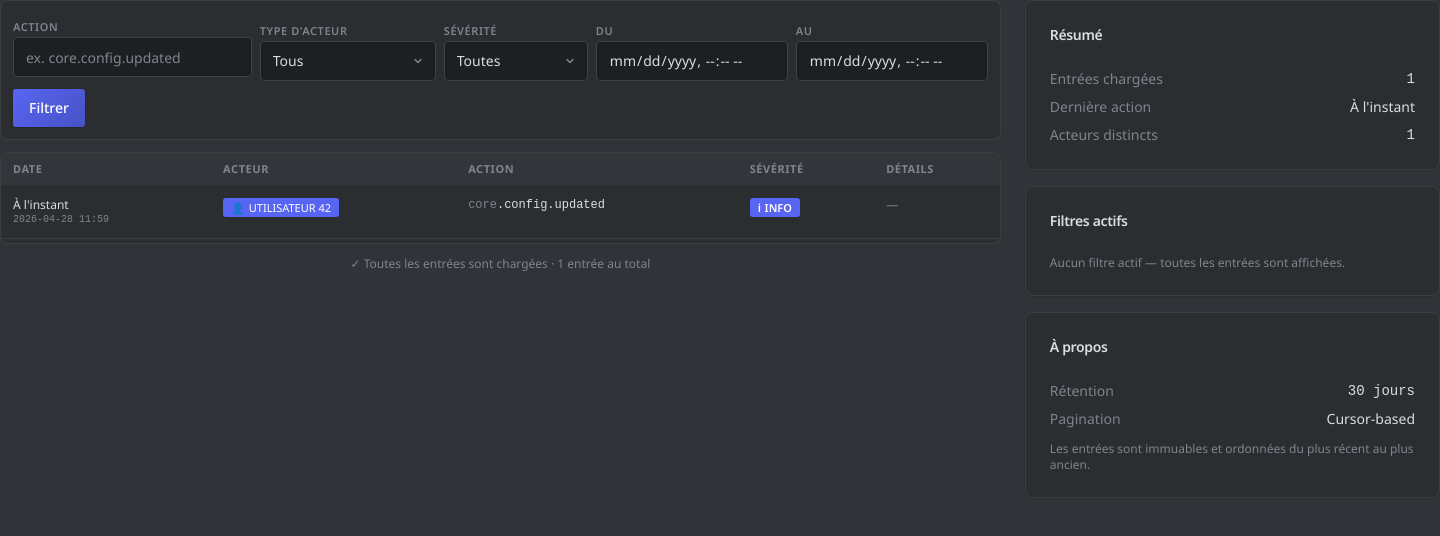
Scenario: AuditView › filtrage : submit reset les items et appelle loadAuditPage avec les nouveaux filtres
Step 1. Type "logs.route.test" into the field labelled "Action" → {"x": 132, "y": 57}, box [13,37,252,77]
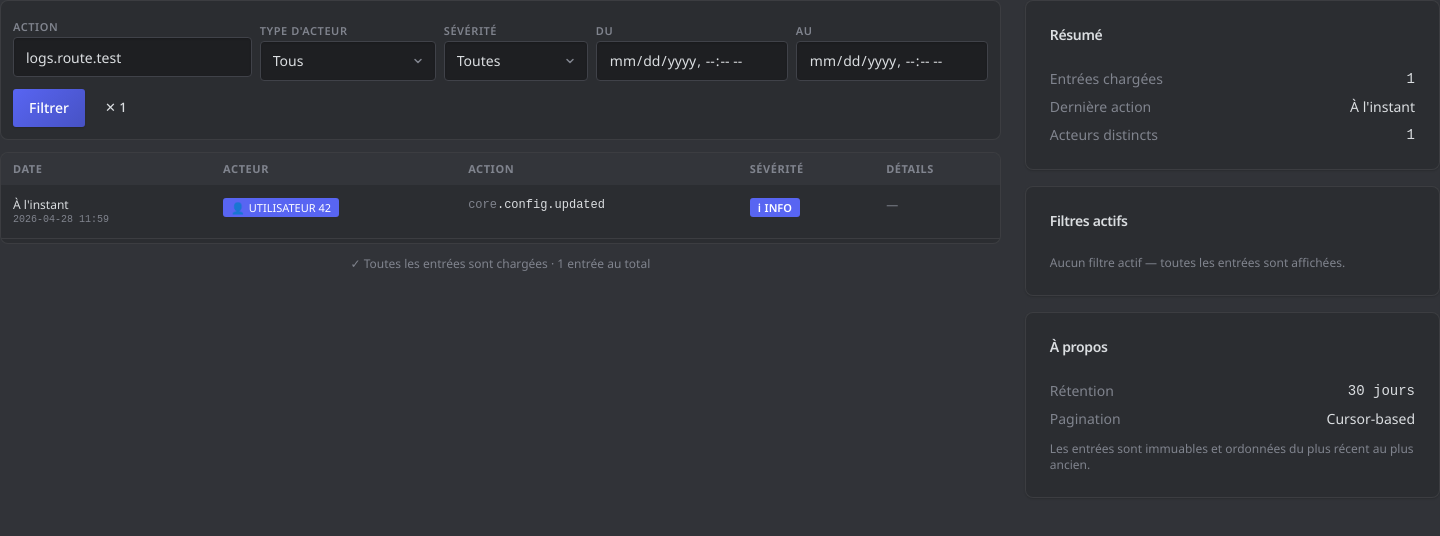
Step 2. Select "🟠 Warn" in the dropdown labelled "Sévérité" → {"x": 516, "y": 61}, box [444,41,588,81]
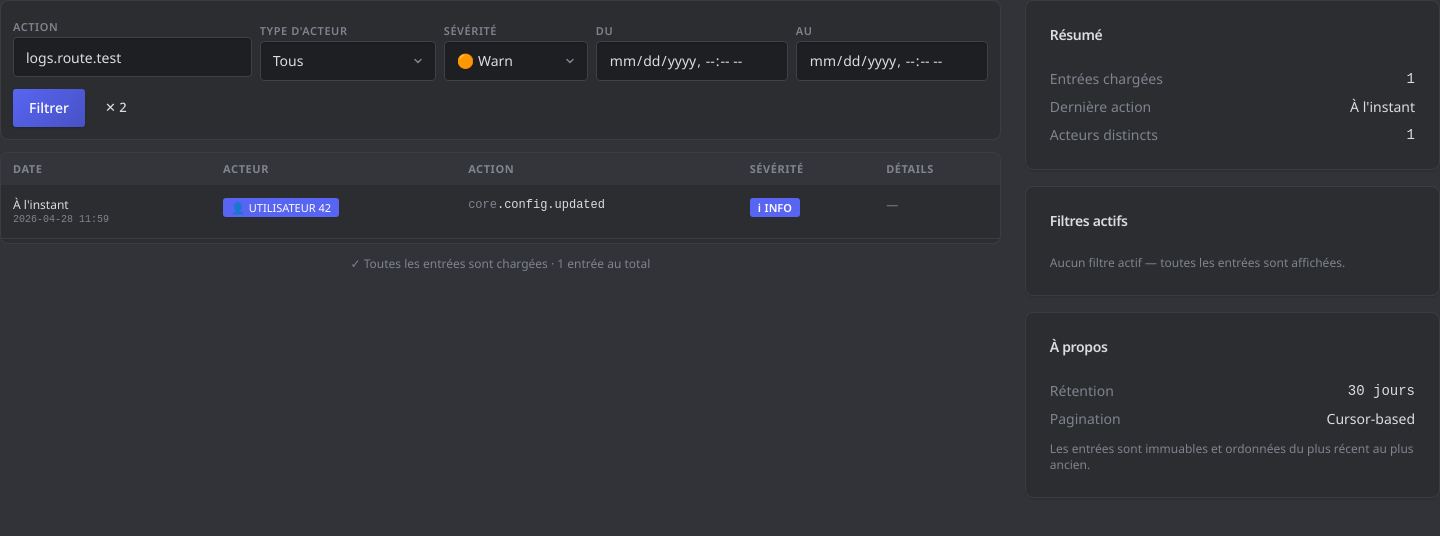
Step 3. Click the button "Filtrer" → {"x": 49, "y": 108}, box [13,89,85,127]
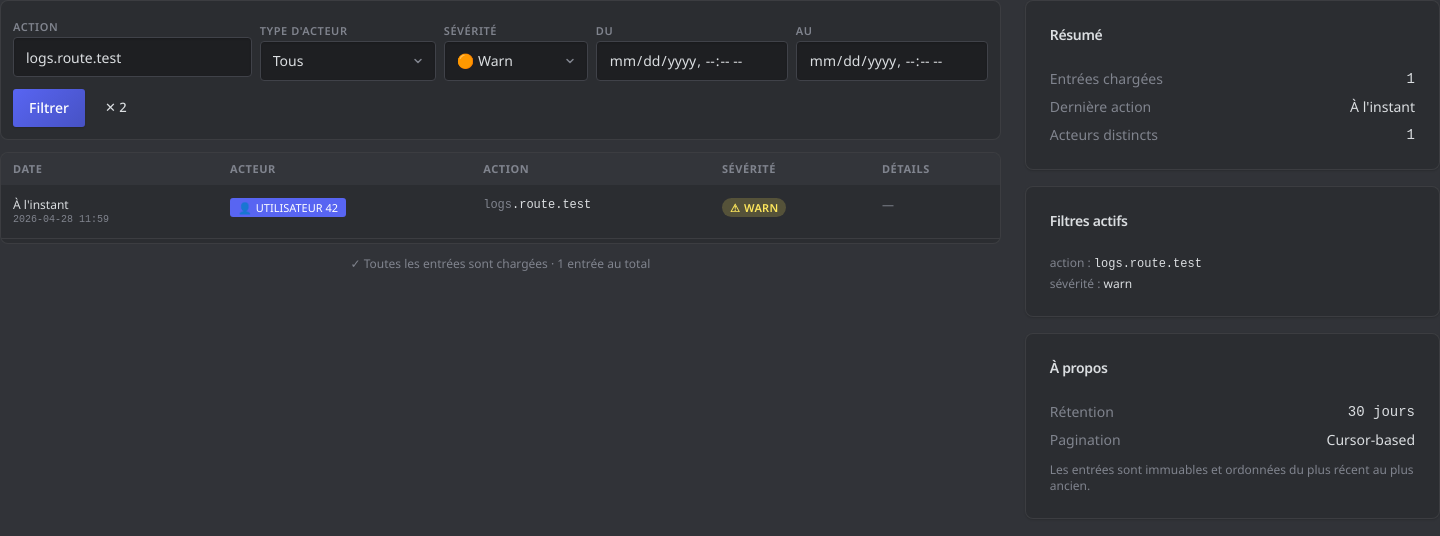
Check: the text ".route.test" is shown, box [512,198,591,212]
